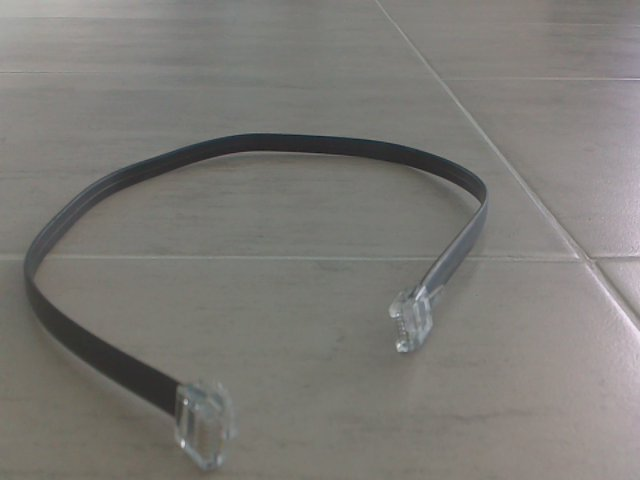Kabel: (20, 126, 494, 474)
